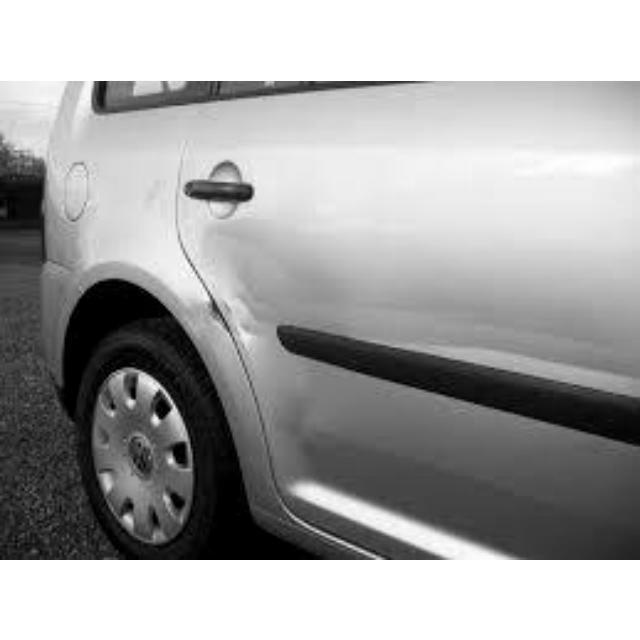doorouter-dent: (215, 130, 407, 471)
